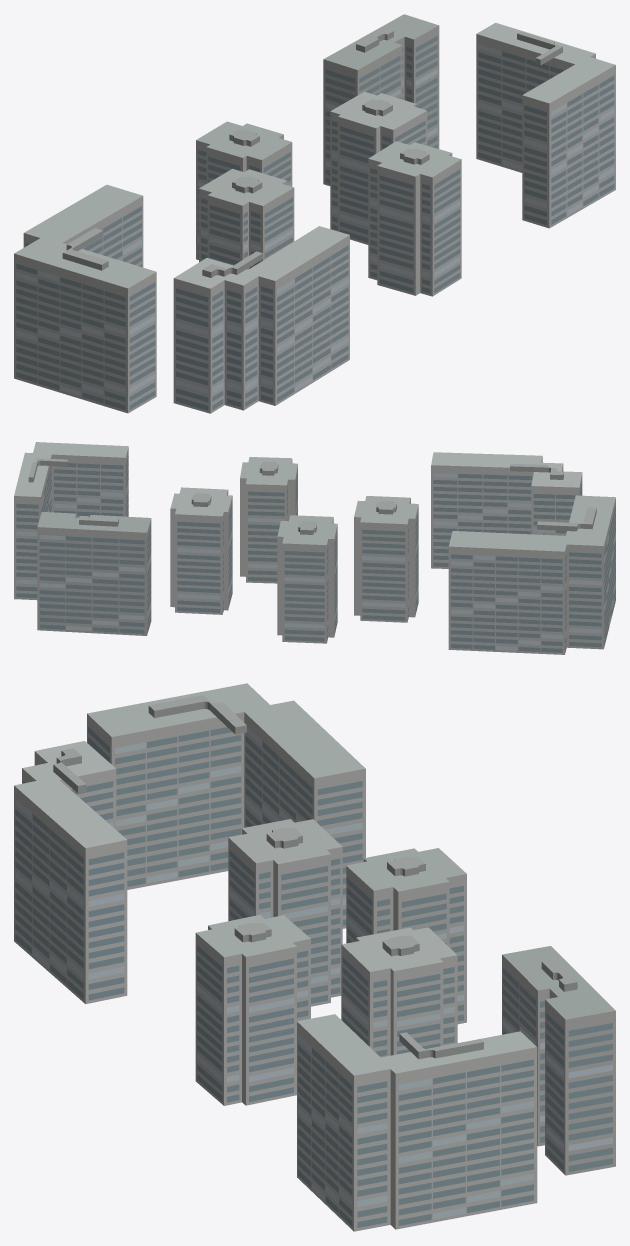
The model's file is apt-a15807316.glb.
The picture shows the model from 3 angles, top to bottom: view 1: azimuth 30°, elevation 25°; view 2: azimuth 150°, elevation 25°; view 3: azimuth 270°, elevation 25°; orthographic projection. The views are drawn at different scales.
Parts seen in each view (by area): view 1: apt-a15807316; view 2: apt-a15807316; view 3: apt-a15807316.
Boxes of the visible parts, x1=… form: apt-a15807316: x1=14, y1=14, x2=615, y2=413; apt-a15807316: x1=14, y1=442, x2=615, y2=654; apt-a15807316: x1=14, y1=683, x2=615, y2=1231.
Bounding box in the file's own units: 222 × 43 × 144.
